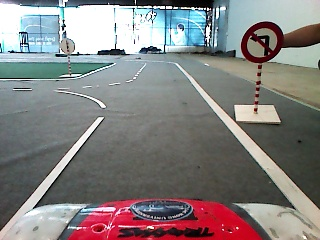ban: (239, 20, 284, 63)
